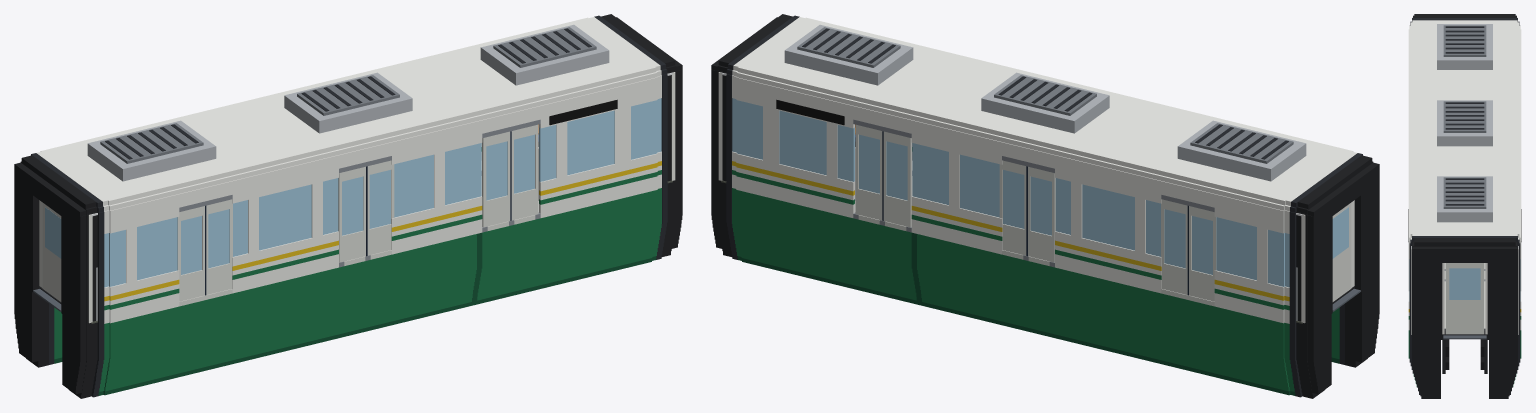
Rendered from chongqing_car.obj.
3 views of the same model, side by side, from view 1: azimuth 30°, elevation 25°; view 2: azimuth 150°, elevation 25°; view 3: azimuth 270°, elevation 25° (orthographic). The views are drawn at different scales.
Parts seen in each view (by area): view 1: SHELL, SHELL_roof, SHELL_diaphragm, EXTERNAL_DOOR_16_CG_DR3_TOGGLE_TL_-0.59_X, EXTERNAL_DOOR_10_CG_DR2_TOGGLE_TL_-0.59_X, EXTERNAL_DOOR_4_CG_DR1_TOGGLE_TL_-0.59_X, EXTERNAL_DOOR_17_CG_DR3_TOGGLE_TL_0.59_X, EXTERNAL_DOOR_5_CG_DR1_TOGGLE_TL_0.59_X, EXTERNAL_DOOR_11_CG_DR2_TOGGLE_TL_0.59_X, CONNECTING_DOOR_1_CG_CR_TOGGLE_TL_0.98_Z, SHELL_end, SHELL_sign; view 2: SHELL, SHELL_roof, SHELL_diaphragm, EXTERNAL_DOOR_19_CG_DL3_TOGGLE_TL_-0.59_X, EXTERNAL_DOOR_13_CG_DL2_TOGGLE_TL_-0.59_X, EXTERNAL_DOOR_7_CG_DL1_TOGGLE_TL_-0.59_X, EXTERNAL_DOOR_20_CG_DL3_TOGGLE_TL_0.59_X, EXTERNAL_DOOR_8_CG_DL1_TOGGLE_TL_0.59_X, EXTERNAL_DOOR_14_CG_DL2_TOGGLE_TL_0.59_X, CONNECTING_DOOR_1_CG_CR_TOGGLE_TL_0.98_Z, SHELL_end, SHELL_sign; view 3: SHELL, SHELL_diaphragm, SHELL_roof, CONNECTING_DOOR_2_CG_CF_TOGGLE_TL_0.98_Z, SHELL_end, BOGEY_FRONT, SHELL_gangway.
Boxes of the visible parts, x1,y1,x2,y2 form: SHELL: (20,14,676,398); SHELL_roof: (87,24,609,181); SHELL_diaphragm: (14,17,682,394); EXTERNAL_DOOR_16_CG_DR3_TOGGLE_TL_-0.59_X: (482,131,511,227); EXTERNAL_DOOR_10_CG_DR2_TOGGLE_TL_-0.59_X: (338,166,367,262); EXTERNAL_DOOR_4_CG_DR1_TOGGLE_TL_-0.59_X: (177,205,206,301); EXTERNAL_DOOR_17_CG_DR3_TOGGLE_TL_0.59_X: (511,124,538,220); EXTERNAL_DOOR_5_CG_DR1_TOGGLE_TL_0.59_X: (206,199,232,294); EXTERNAL_DOOR_11_CG_DR2_TOGGLE_TL_0.59_X: (367,160,394,255); CONNECTING_DOOR_1_CG_CR_TOGGLE_TL_0.98_Z: (42,203,61,301); SHELL_end: (39,72,675,323); SHELL_sign: (549,99,617,125); SHELL: (717,14,1373,398); SHELL_roof: (784,24,1306,181); SHELL_diaphragm: (711,17,1379,394); EXTERNAL_DOOR_19_CG_DL3_TOGGLE_TL_-0.59_X: (882,131,911,227); EXTERNAL_DOOR_13_CG_DL2_TOGGLE_TL_-0.59_X: (1026,166,1055,262); EXTERNAL_DOOR_7_CG_DL1_TOGGLE_TL_-0.59_X: (1187,205,1216,301); EXTERNAL_DOOR_20_CG_DL3_TOGGLE_TL_0.59_X: (855,124,882,220); EXTERNAL_DOOR_8_CG_DL1_TOGGLE_TL_0.59_X: (1161,199,1187,294); EXTERNAL_DOOR_14_CG_DL2_TOGGLE_TL_0.59_X: (999,160,1026,255); CONNECTING_DOOR_1_CG_CR_TOGGLE_TL_0.98_Z: (1332,203,1351,301); SHELL_end: (718,72,1354,323); SHELL_sign: (776,99,844,125); SHELL: (1408,14,1521,398); SHELL_diaphragm: (1412,15,1517,396); SHELL_roof: (1437,24,1492,222); CONNECTING_DOOR_2_CG_CF_TOGGLE_TL_0.98_Z: (1445,263,1484,334); SHELL_end: (1411,248,1518,334); BOGEY_FRONT: (1442,338,1487,373); SHELL_gangway: (1443,335,1486,338).
Bounding box in the file's own units: 14.22 × 4.8 × 2.92.
Materials: 1 (1 with a texture image).
